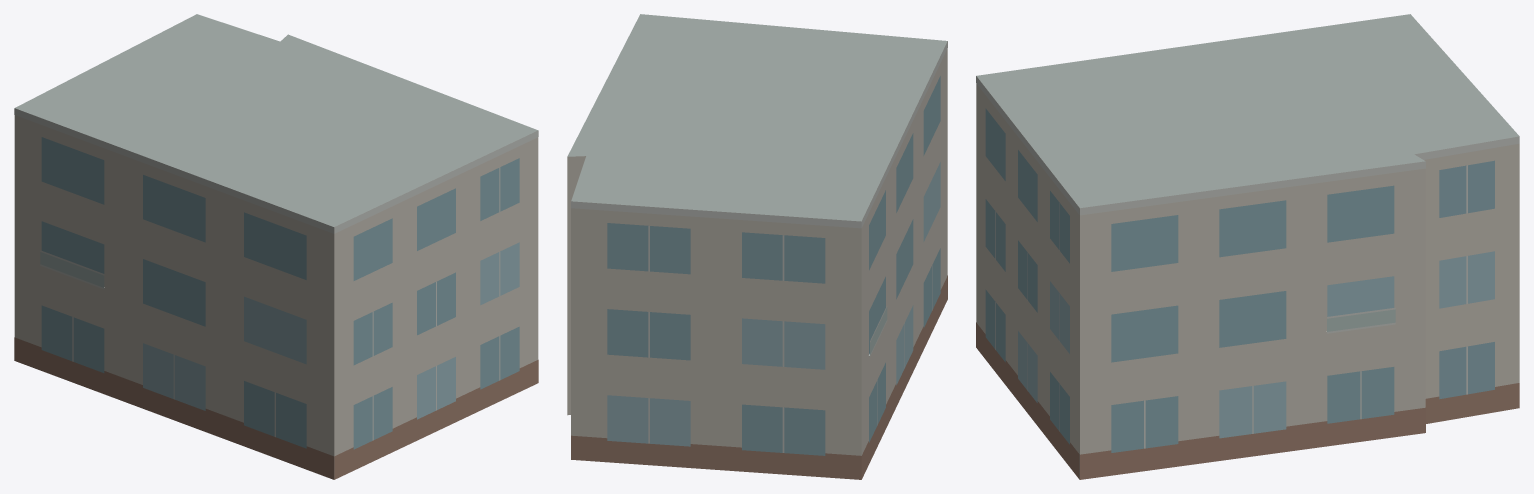
The model's file is survey-upis-32929496.glb.
The picture shows the model from 3 angles, left to right: view 1: azimuth 30°, elevation 25°; view 2: azimuth 150°, elevation 25°; view 3: azimuth 270°, elevation 25°; orthographic projection. The views are drawn at different scales.
Parts seen in each view (by area): view 1: survey-upis-32929496.tmp; view 2: survey-upis-32929496.tmp; view 3: survey-upis-32929496.tmp.
Part boxes in pixels (box(x1,y1,x2,y2)): survey-upis-32929496.tmp: box(14, 14, 538, 479); survey-upis-32929496.tmp: box(567, 14, 947, 479); survey-upis-32929496.tmp: box(976, 14, 1519, 479).
Bounding box in the file's own units: 14.04 × 9.15 × 16.6.
